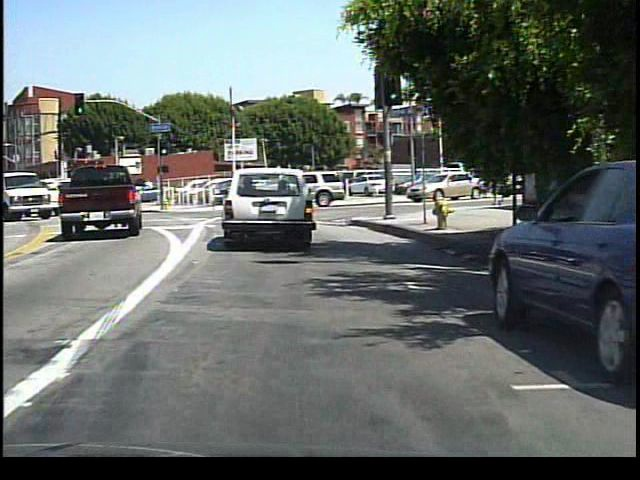person: (383, 165, 401, 203)
